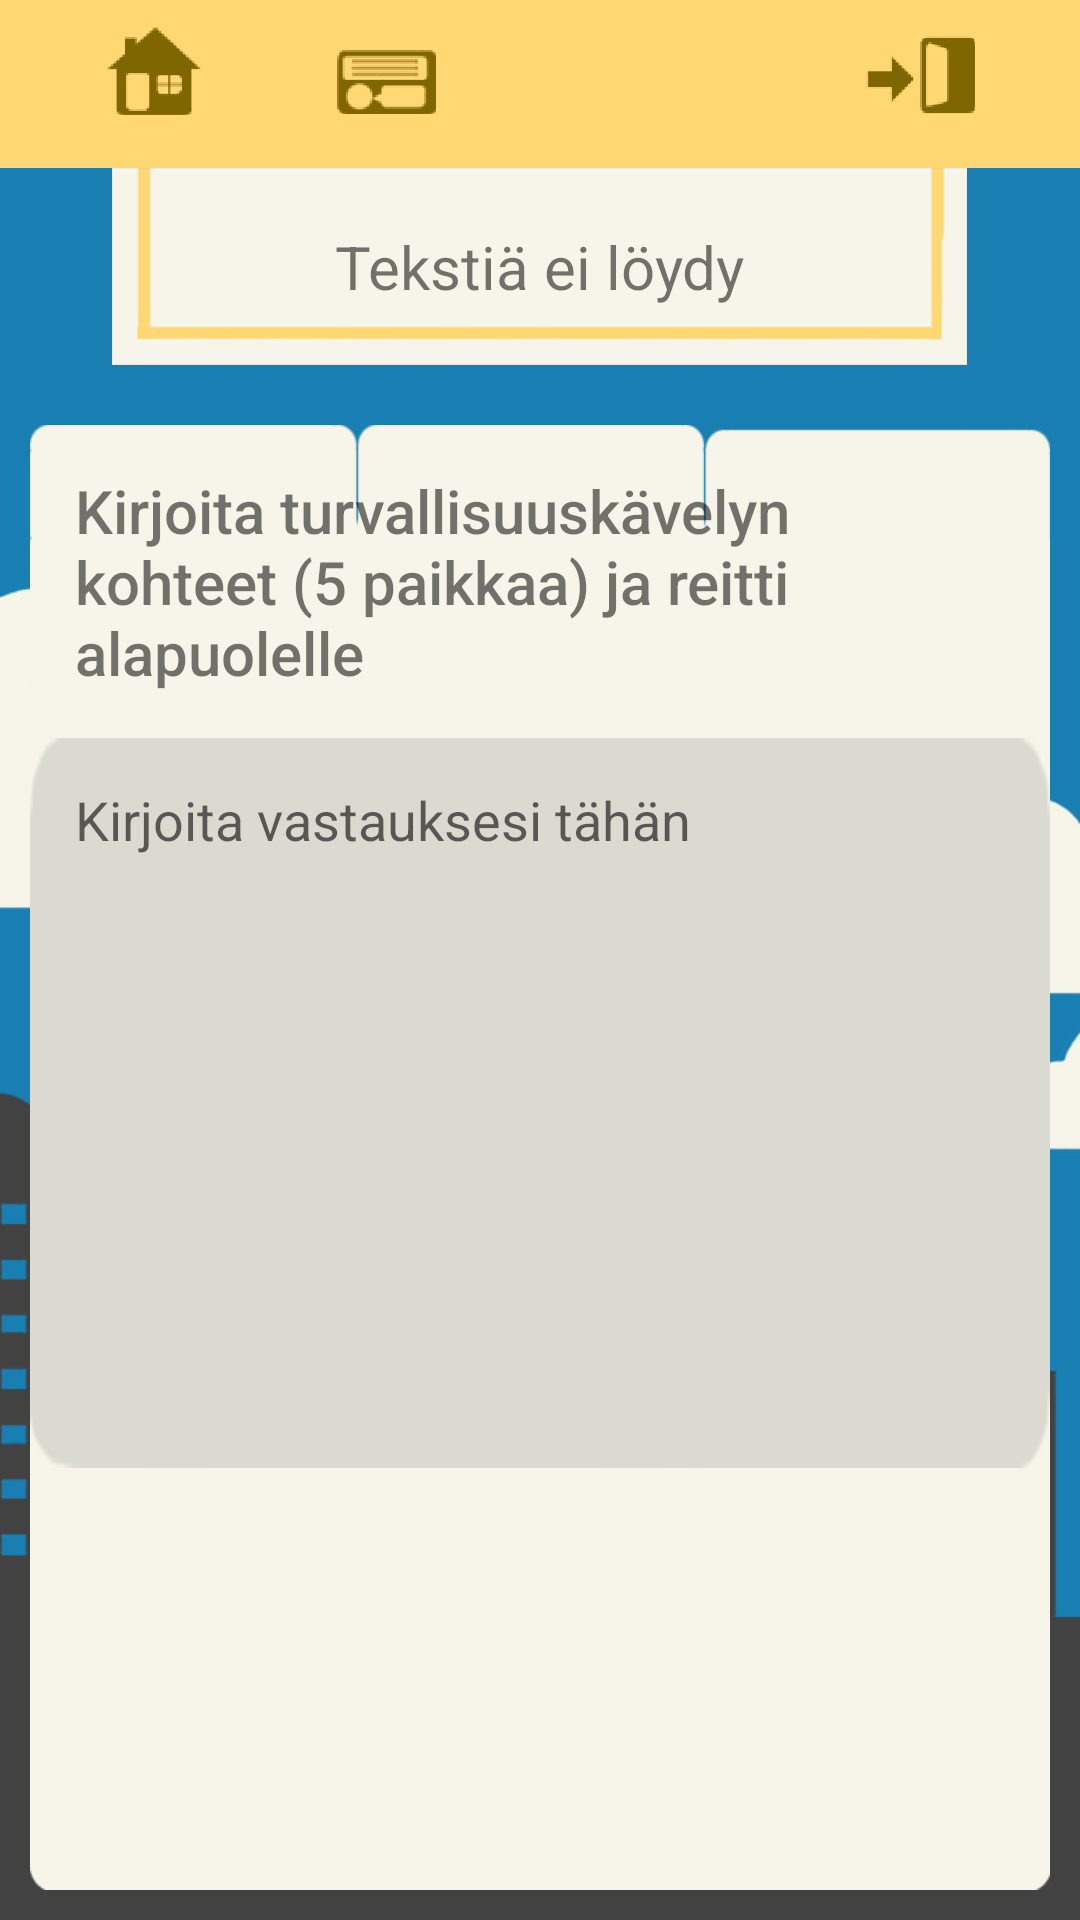

Icon bounding boxes for this 1080w x 1920h phone screenshot, format (x1, y1, x2, y2):
feedbackicon: (337, 50, 436, 114)
homeicon: (108, 27, 200, 115)
